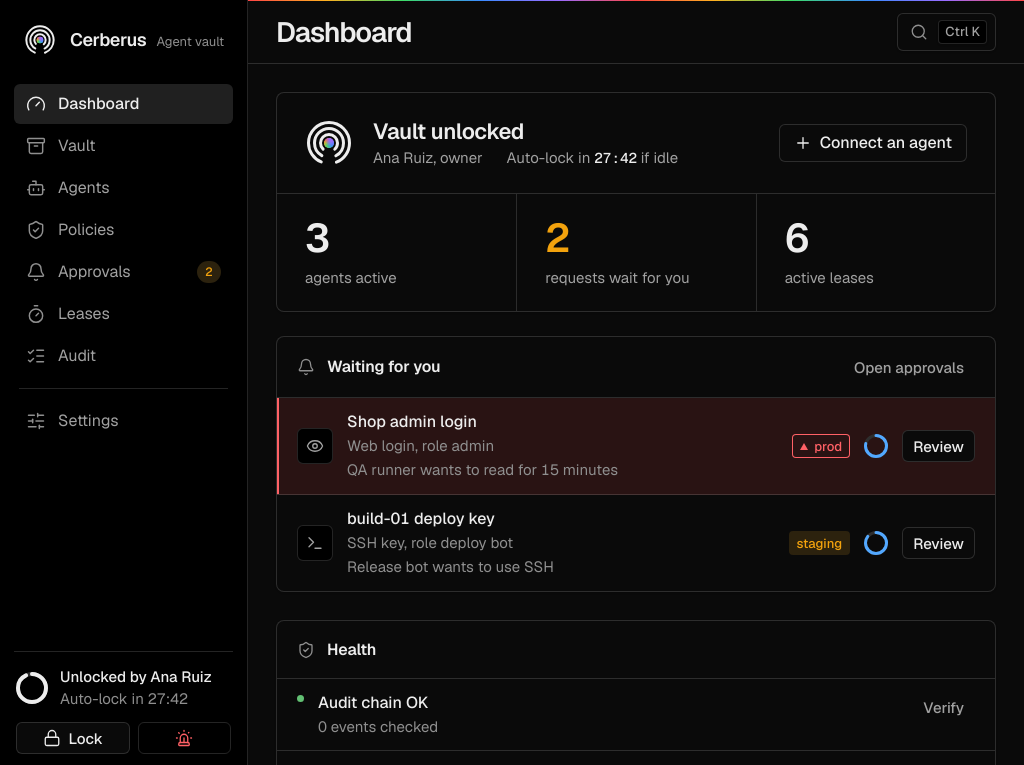
Scenario: command palette › shows no results text
The width and height of the screenshot is (1024, 765).
Expected: the heading "Dashboard" is shown, [276,14,412,48]
Type keys "{Control>}k{/Control}"
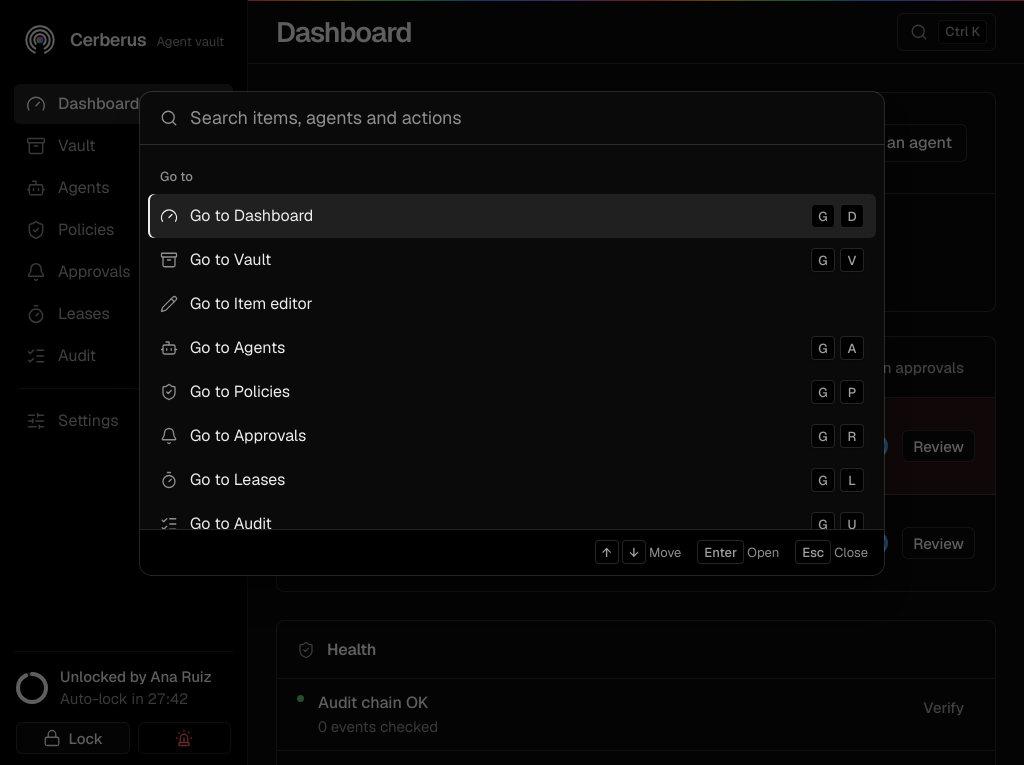
Type "zzzzzz" into the dropdown at x=527, y=118, box [190,106,864,130]
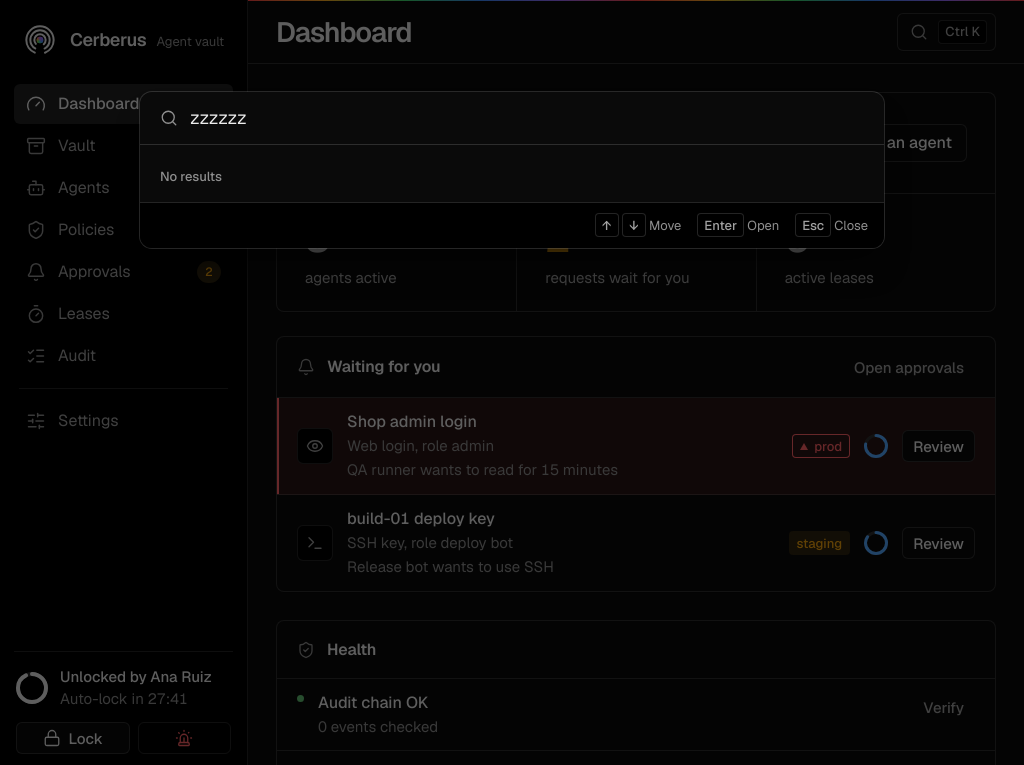
Now the list item "No results" is shown, box [160,168,222,185]
